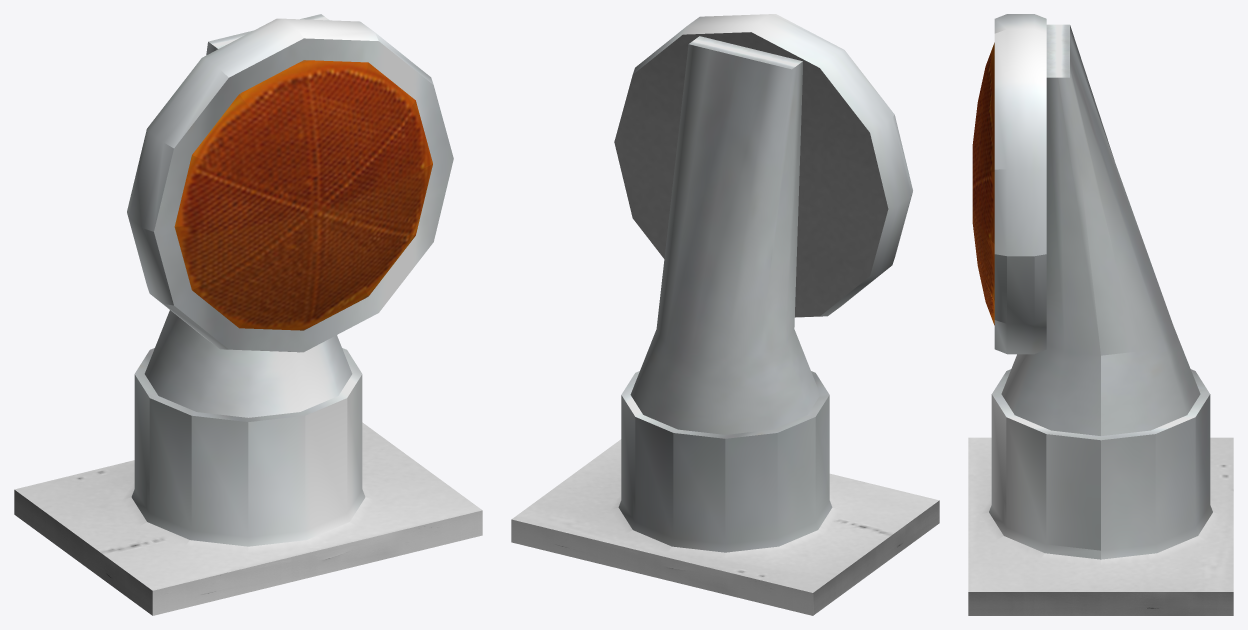
3 views of the same model, side by side, from view 1: azimuth 30°, elevation 25°; view 2: azimuth 150°, elevation 25°; view 3: azimuth 270°, elevation 25° (orthographic). The views are drawn at different scales.
Visible parts, largest first — view 1: MainBuilding; view 2: MainBuilding; view 3: MainBuilding.
Boxes of the visible parts, left/top/right/bottom form: MainBuilding: left=14, top=14, right=482, bottom=615; MainBuilding: left=511, top=14, right=939, bottom=615; MainBuilding: left=968, top=14, right=1233, bottom=615.
Bounding box in the file's own units: 0.11 × 0.1694 × 0.08.
Materials: 1 (1 with a texture image).
